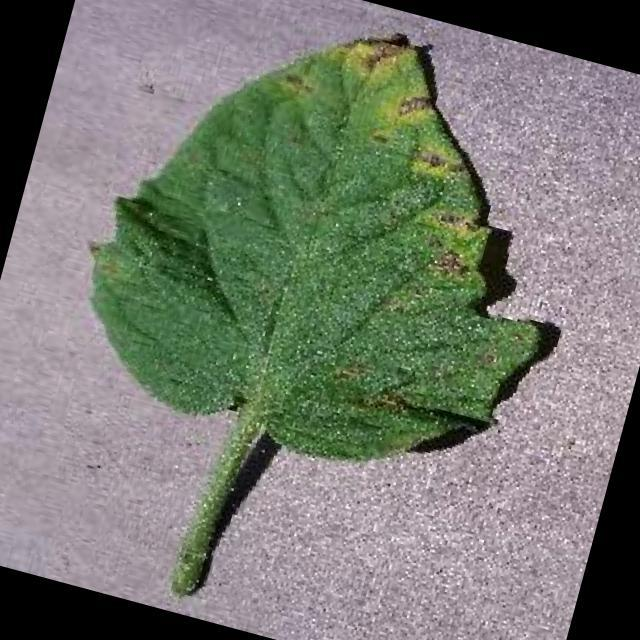Tomato Septoria spot leaf: (48, 0, 605, 507)
